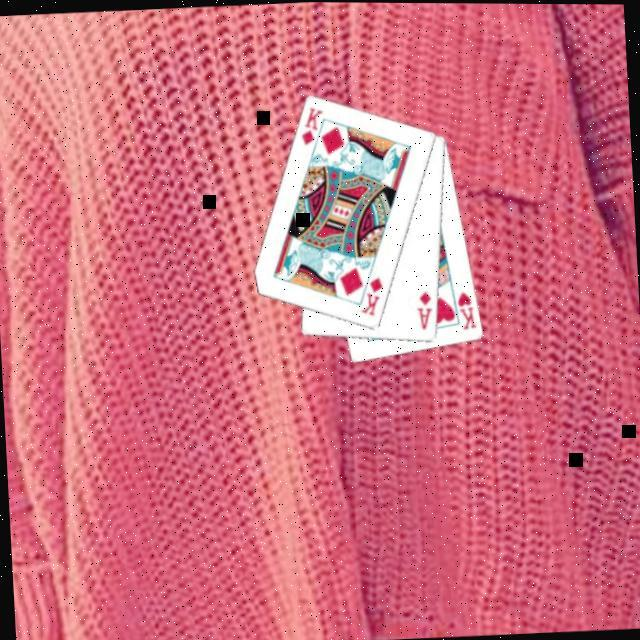AD: (413, 286, 435, 332)
KD: (356, 273, 386, 318), (296, 102, 326, 147)
KH: (453, 286, 479, 331)
